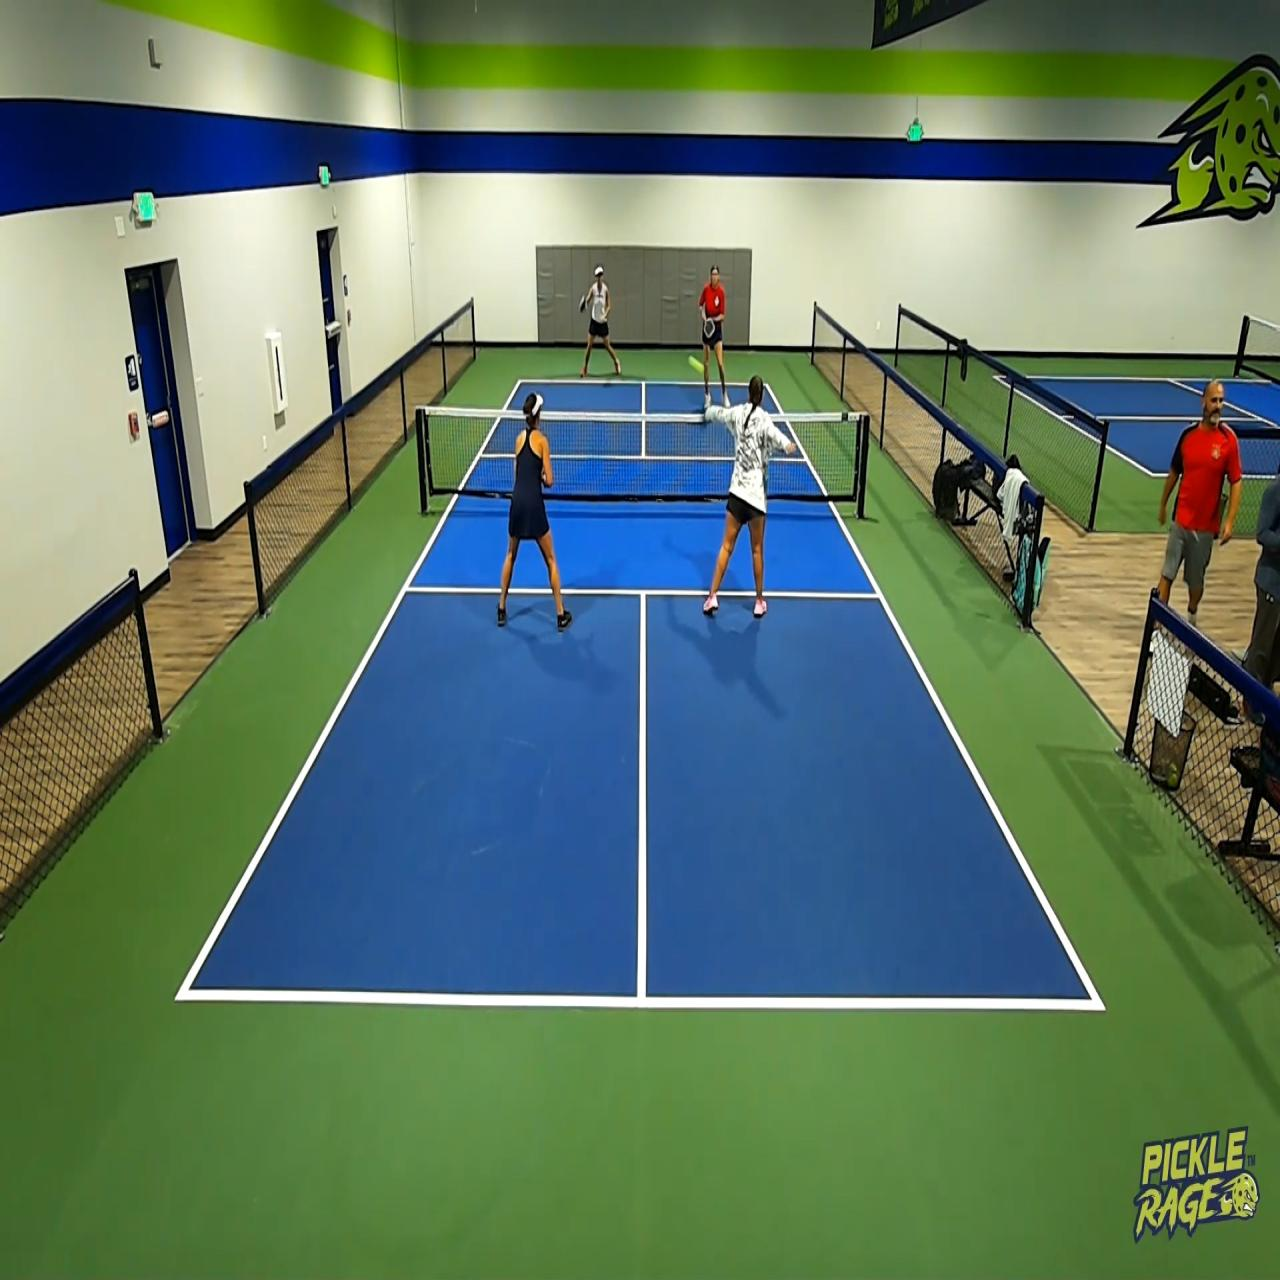Pickleball: (686, 350, 706, 377)
